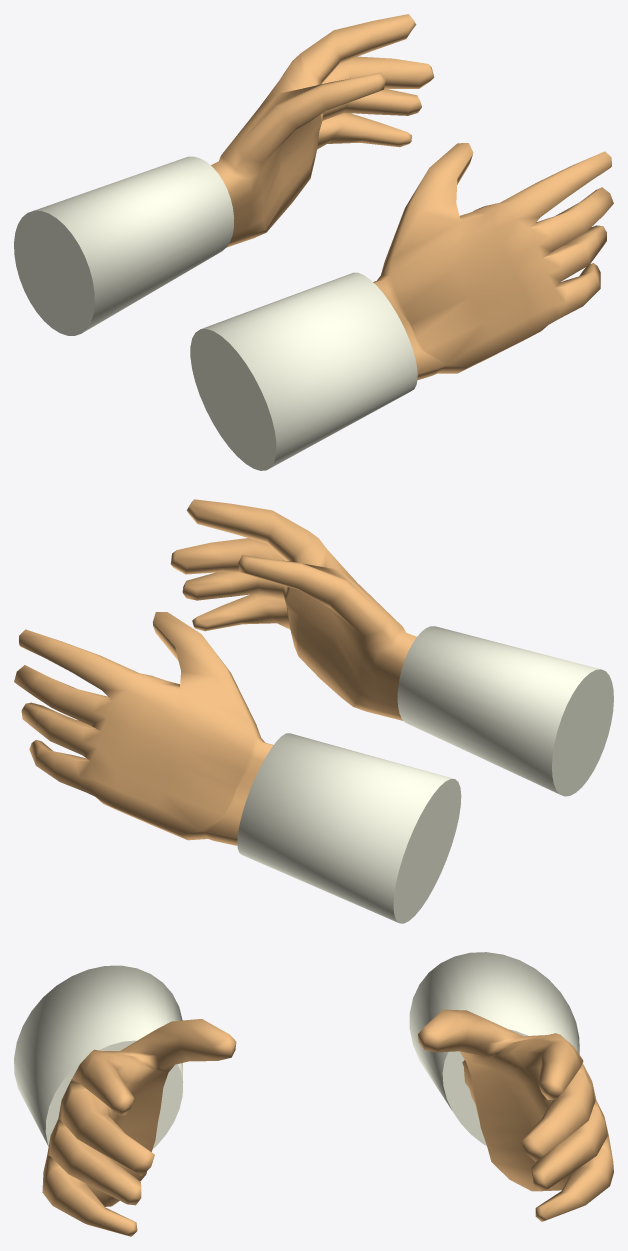
Rendered from kapalı el. fbx.fbx.
The picture shows the model from 3 angles, top to bottom: view 1: azimuth 30°, elevation 25°; view 2: azimuth 150°, elevation 25°; view 3: azimuth 270°, elevation 25°; orthographic projection. The views are drawn at different scales.
Visible parts, largest first — view 1: Cylinder, Cylinder.001; view 2: Cylinder.001, Cylinder; view 3: Cylinder, Cylinder.001.
Boxes of the visible parts, x1,y1,x2,y2 form: Cylinder: (190, 143, 613, 470); Cylinder.001: (14, 14, 434, 335); Cylinder.001: (14, 612, 461, 923); Cylinder: (170, 499, 613, 796); Cylinder: (14, 965, 236, 1236); Cylinder.001: (409, 952, 613, 1221).
Size of the model in its own units: 421 by 212 by 445.
